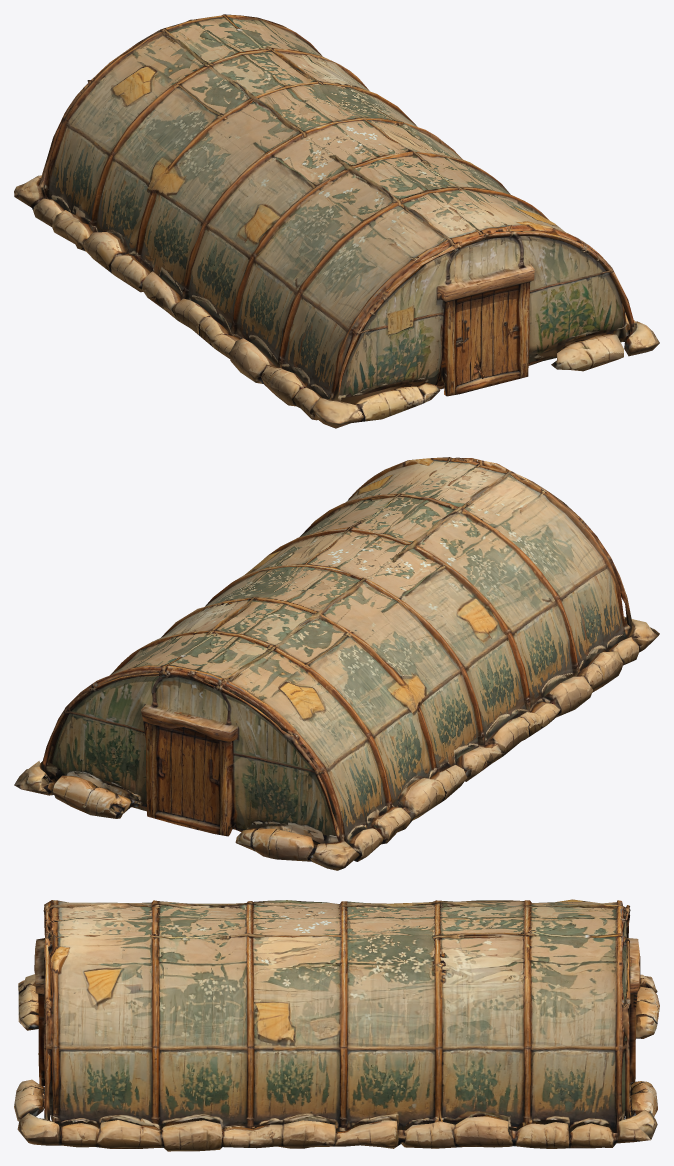
Rendered from Settle_Greenhouse.fbx.
3 renders of one model, top to bottom at view 1: azimuth 30°, elevation 25°; view 2: azimuth 150°, elevation 25°; view 3: azimuth 270°, elevation 25°, orthographic.
Parts seen in each view (by area): view 1: texture_mapping; view 2: texture_mapping; view 3: texture_mapping.
Part boxes in pixels (x1,y1,x2,y2): texture_mapping: [14, 14, 659, 428]; texture_mapping: [14, 457, 659, 870]; texture_mapping: [14, 899, 659, 1151].
Bounding box in the file's own units: 0.6038 × 0.9986 × 0.2678.
1 material, 1 textured.
